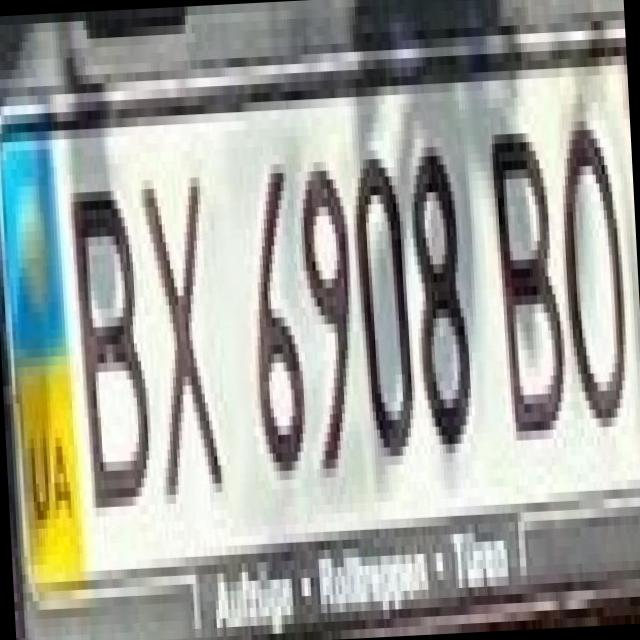0: (542, 92, 634, 430), (342, 113, 412, 458)
6: (235, 145, 308, 472)
8: (392, 119, 479, 446)
9: (288, 143, 358, 470)
B: (56, 153, 155, 510), (472, 105, 572, 442)
X: (130, 140, 226, 506)
